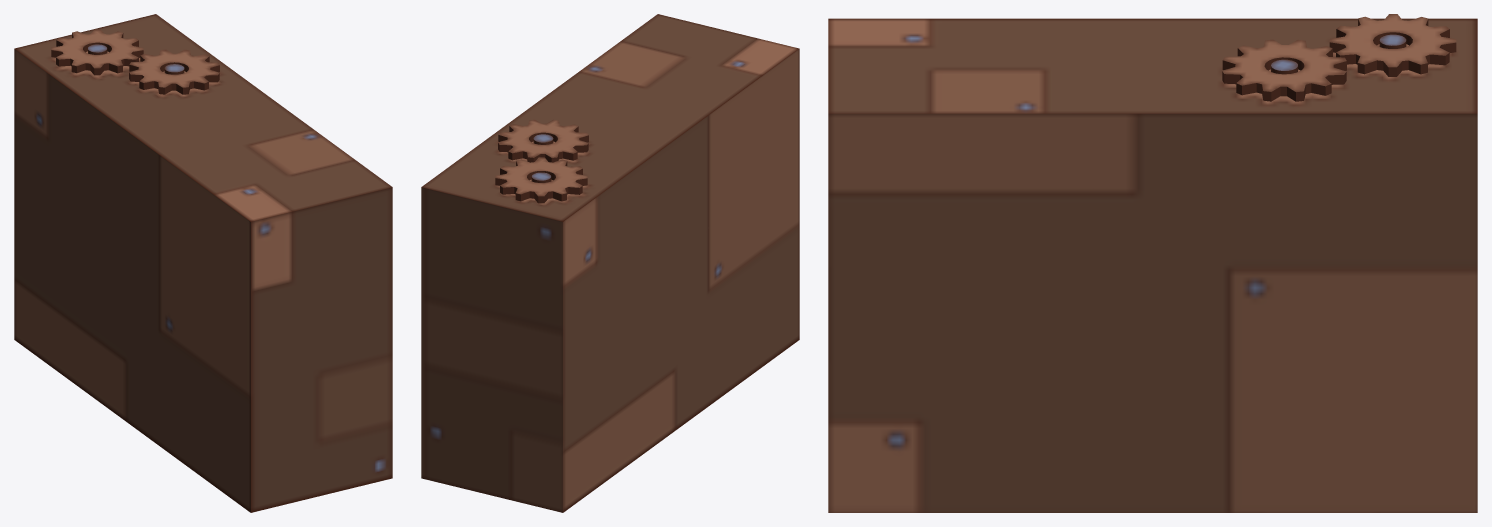
File: Corner_arena_3.fbx
The picture shows the model from 3 angles, left to right: view 1: azimuth 30°, elevation 25°; view 2: azimuth 150°, elevation 25°; view 3: azimuth 270°, elevation 25°; orthographic projection. The views are drawn at different scales.
Visible parts, largest first — view 1: Cube.125; view 2: Cube.125; view 3: Cube.125.
Part boxes in pixels (left/top/right/bottom): Cube.125: left=14, top=14, right=392, bottom=512; Cube.125: left=421, top=14, right=799, bottom=512; Cube.125: left=828, top=14, right=1477, bottom=512.
Bounding box in the file's own units: 36.45 × 73.87 × 105.
